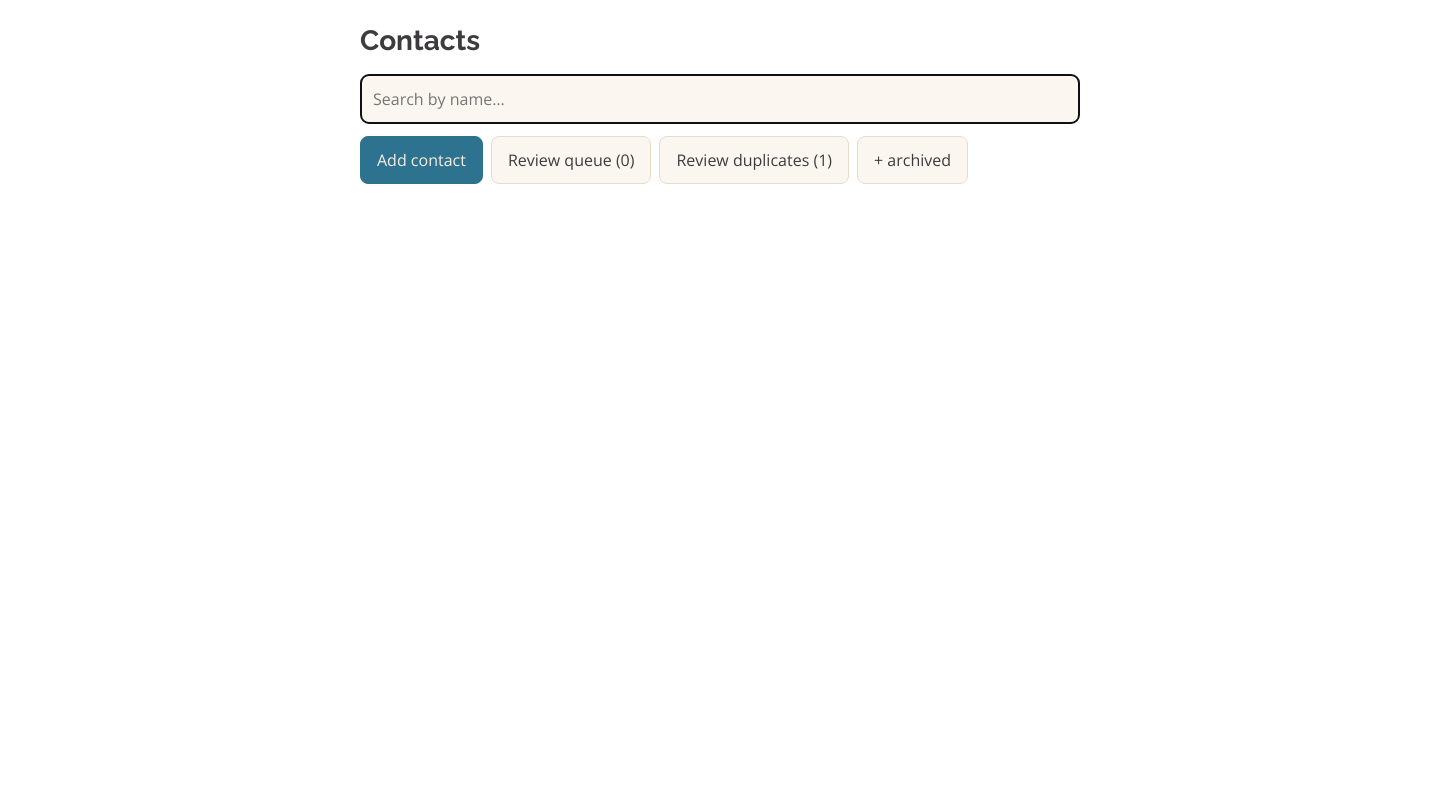
link as shared is explicit, from the duplicates queue (067 / 069) › names the address the referring contact would adopt, and sends nothing yet
Click the button "Review duplicates (1)".
click(754, 160)  # box [660,136,849,184]
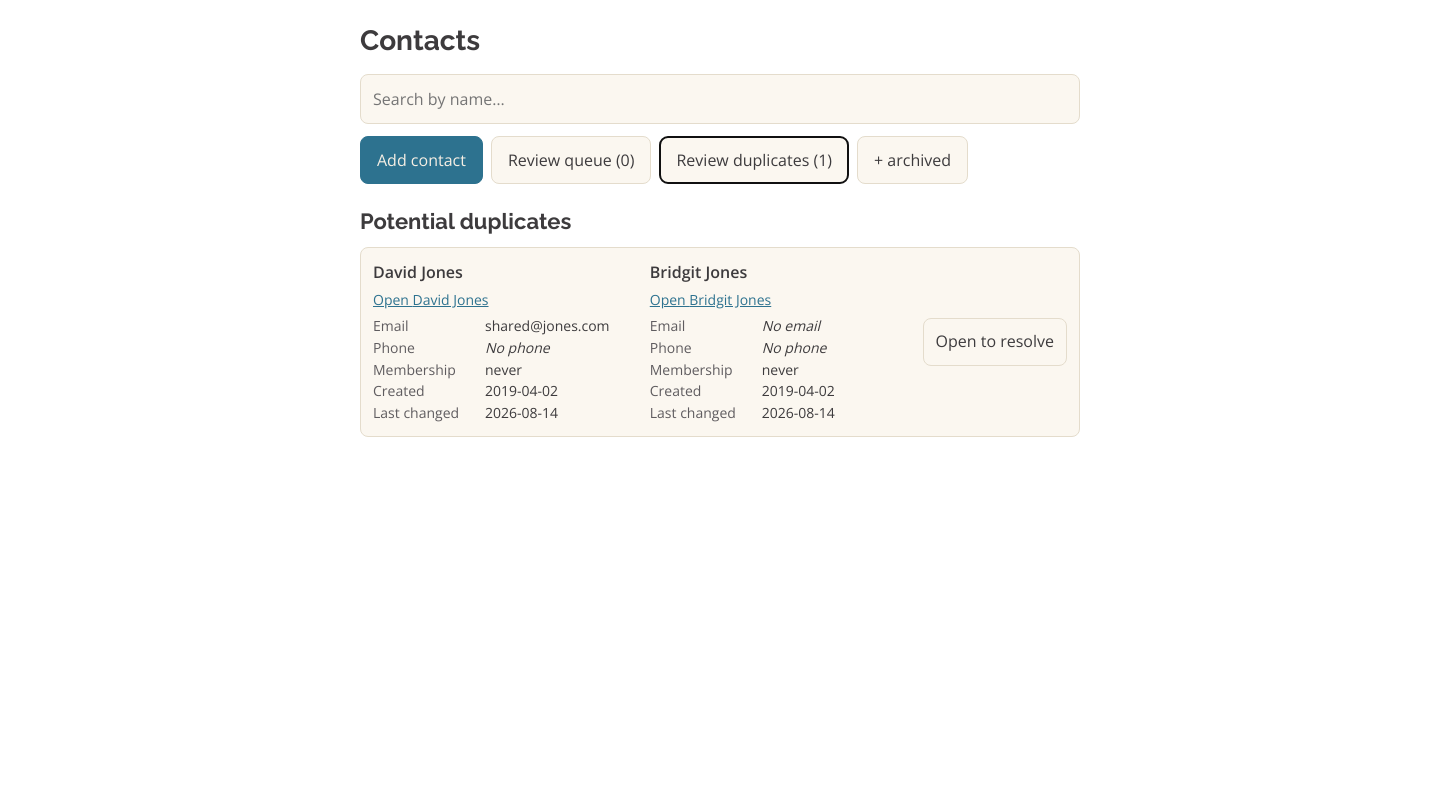
Click the button "Open to resolve".
click(995, 342)  # box [922,318,1067,366]
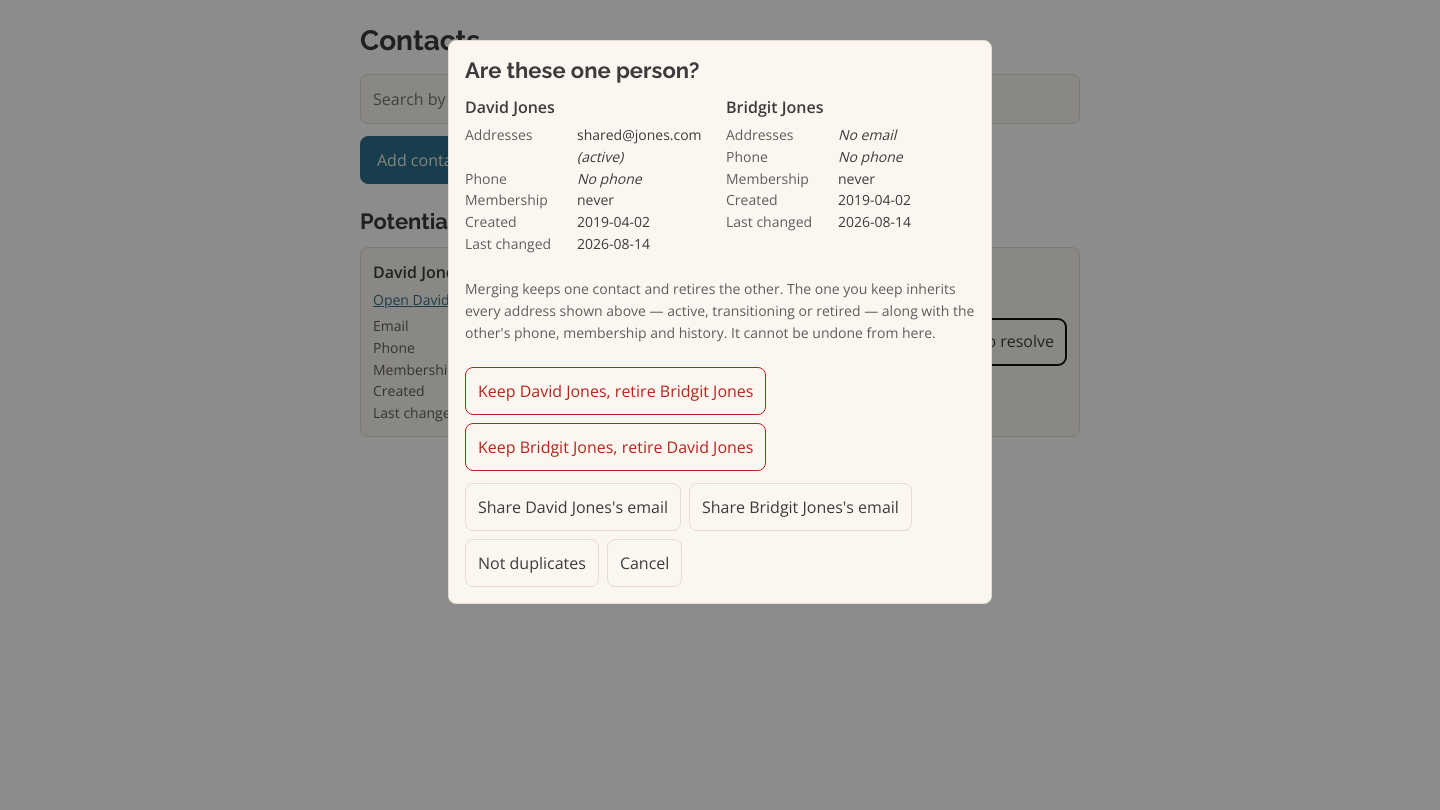
Click the button "Share David Jones's email".
click(573, 507)  # box [465,483,681,531]
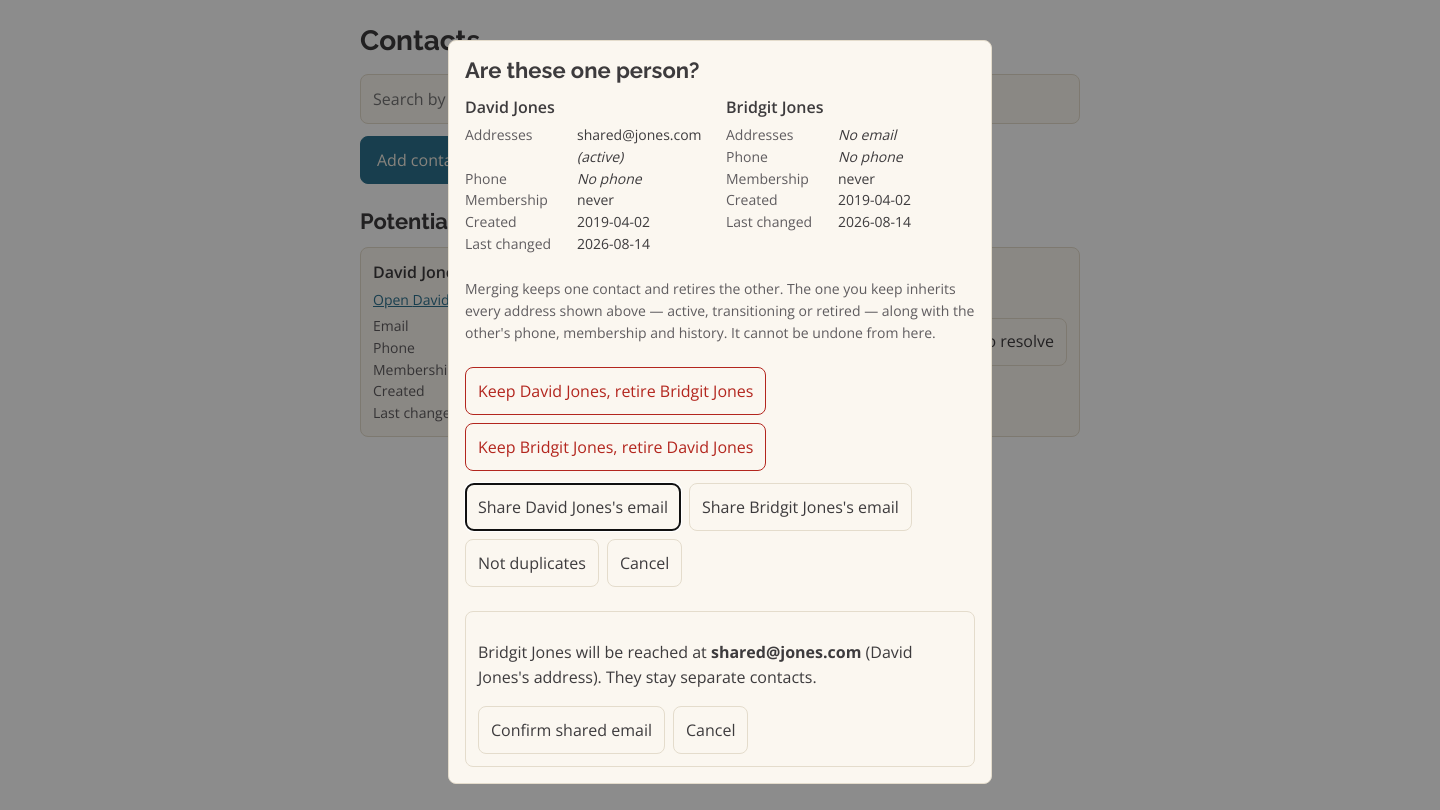
Check: the text "shared@jones.com" is shown, box [711,641,862,663]
